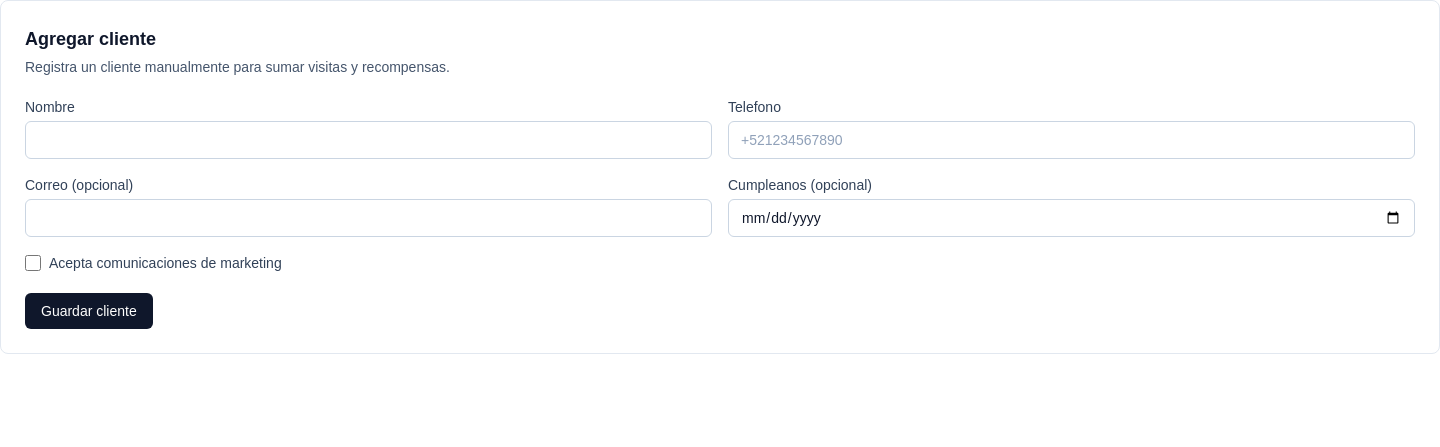
CustomerForm integration › shows validation errors on invalid submit
Step 1. Type "Ana" into the field labelled "Nombre" → (368, 140), box [25, 121, 712, 159]
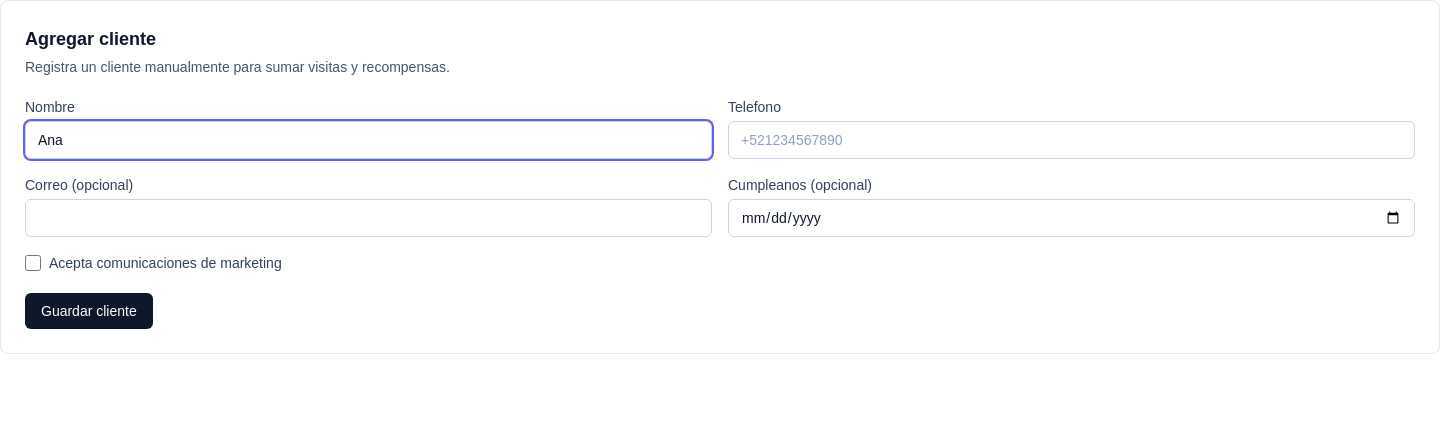
Step 2. Type "correo-invalido" into the field labelled "Correo (opcional)" → (368, 218), box [25, 199, 712, 237]
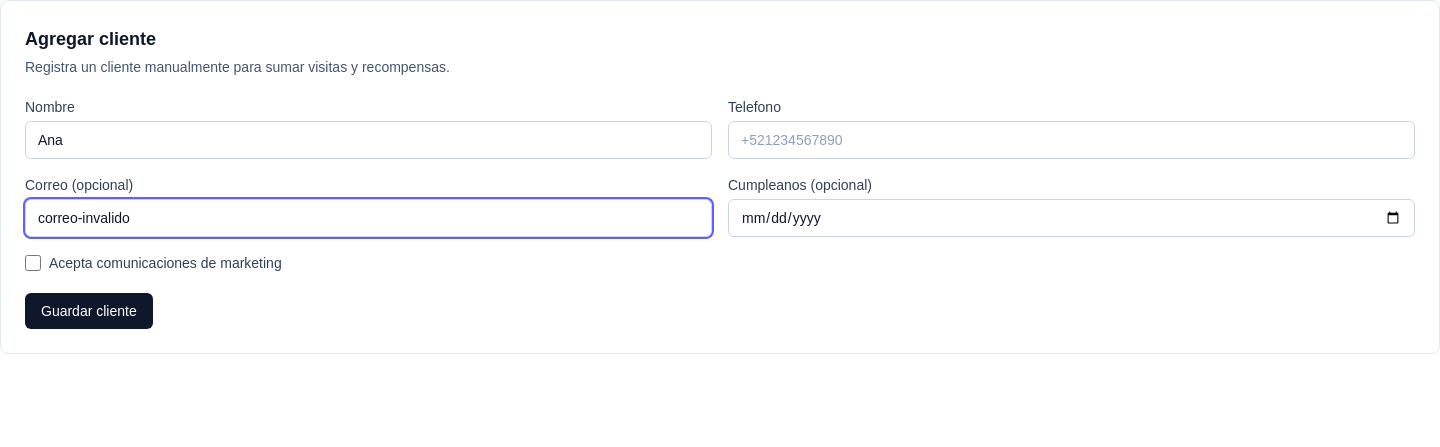
Step 3. Click the button "Guardar cliente" → (89, 311), box [25, 293, 153, 329]
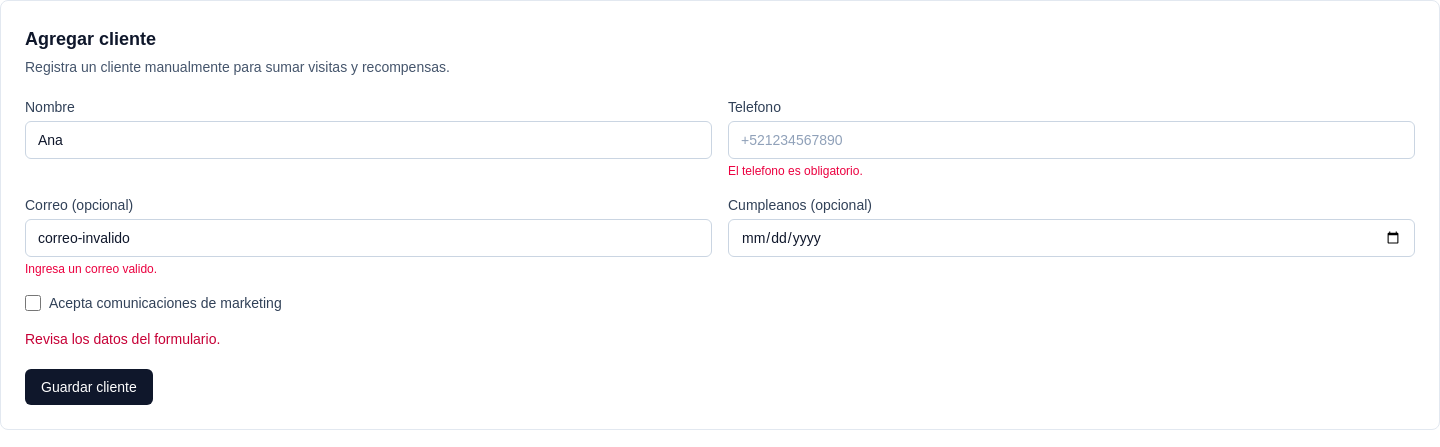
Now the text "El telefono es obligatorio." is shown, box [728, 164, 863, 178]
Now the text "Ingresa un correo valido." is shown, box [25, 262, 157, 276]
Now the text "Revisa los datos del formulario." is shown, box [25, 331, 220, 347]
